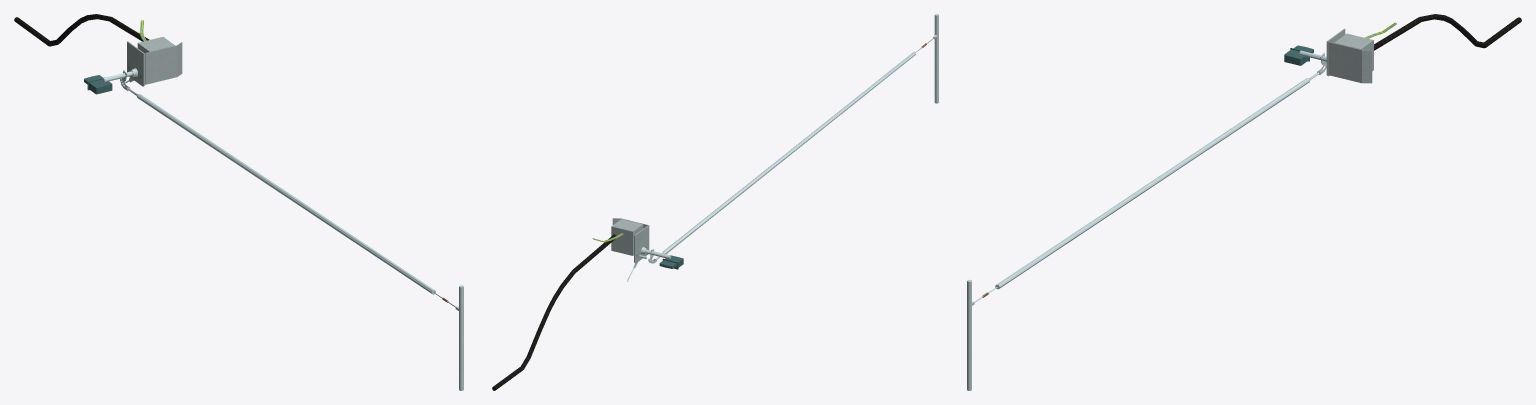
File: glkg-11m32000237461089a-geode.glb
The picture shows the model from 3 angles, left to right: view 1: azimuth 30°, elevation 25°; view 2: azimuth 150°, elevation 25°; view 3: azimuth 330°, elevation 25°; orthographic projection. The views are drawn at different scales.
Visible parts, largest first — view 1: Node; view 2: Node; view 3: Node.
Boxes of the visible parts, bbox=[...] form: Node: bbox=[14, 14, 463, 390]; Node: bbox=[492, 14, 938, 390]; Node: bbox=[967, 14, 1521, 390].
Bounding box in the file's own units: 0.431 × 0.4978 × 4.22.
8 materials, 8 textured.
